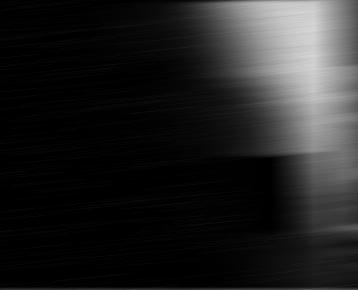Airbag: (0, 1, 358, 289), (340, 0, 358, 290)
